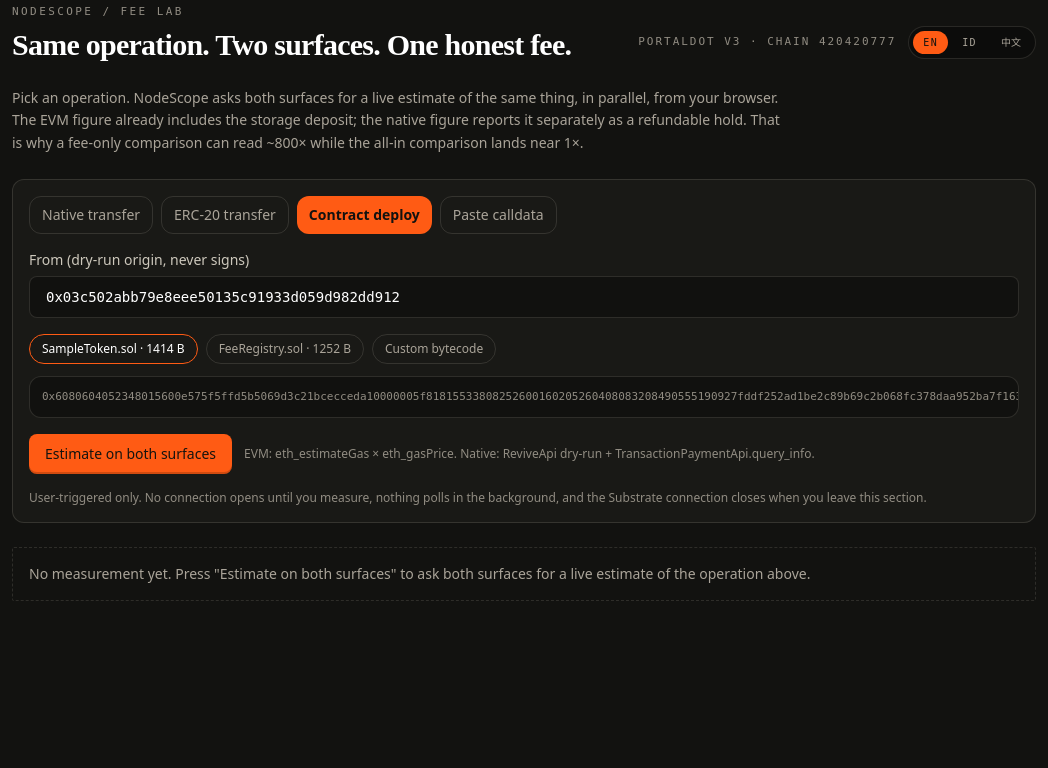
Test case: FeeLabPanel › switches the panel language with its header toggle
What coordinates should you click on to do the following:
click the button with aria-label "ID (Bahasa Indonesia)"
I would click on:
 (970, 42)
Its box is [952,30,987,54].
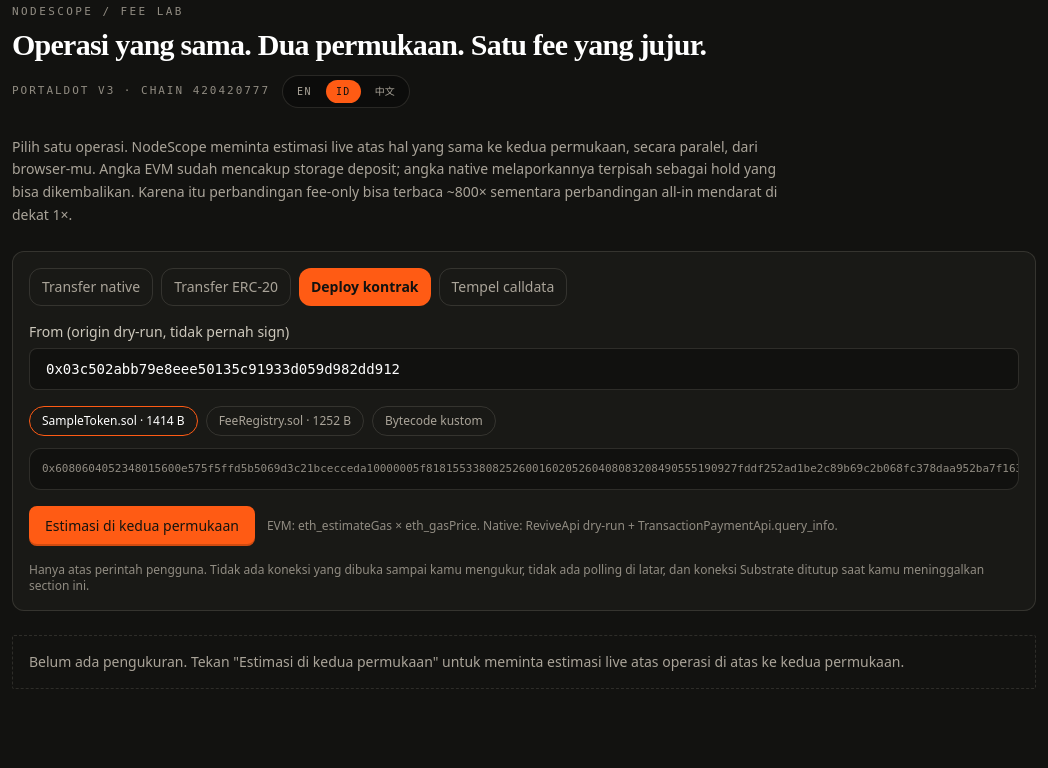
Now the heading "Operasi yang sama. Dua permukaan. Satu fee yang jujur." is shown, box [12,26,706,62]
